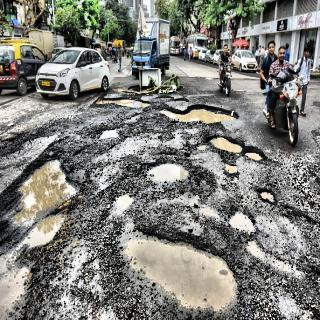pothole: (0, 155, 78, 320), (116, 226, 238, 319), (194, 132, 269, 176), (228, 204, 267, 260), (157, 102, 240, 126), (143, 155, 189, 188), (94, 97, 150, 112), (110, 189, 137, 212), (96, 125, 119, 140), (259, 186, 277, 205)
